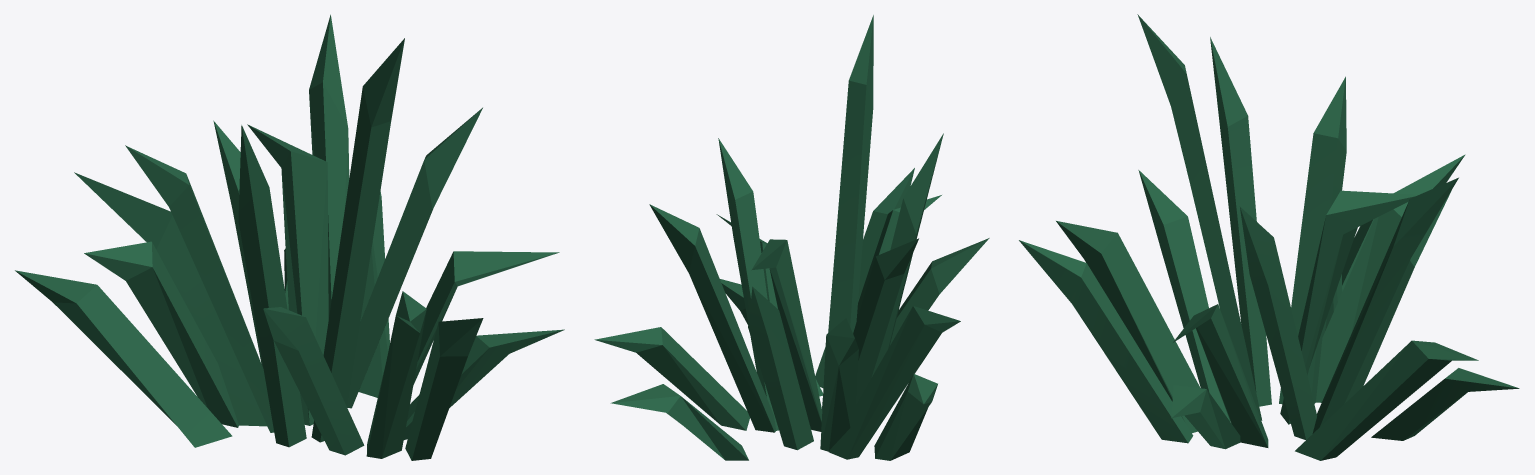
Rendered from Env_Grass_02.fbx.
3 renders of one model, left to right at view 1: azimuth 30°, elevation 25°; view 2: azimuth 150°, elevation 25°; view 3: azimuth 270°, elevation 25°, orthographic. The views are drawn at different scales.
Parts seen in each view (by area): view 1: Grass_02; view 2: Grass_02; view 3: Grass_02.
Boxes of the visible parts, x1,y1,x2,y2 form: Grass_02: [15, 14, 564, 460]; Grass_02: [594, 15, 989, 460]; Grass_02: [1019, 14, 1519, 460].
Size of the model in its own units: 16.42 by 17.08 by 19.05.
